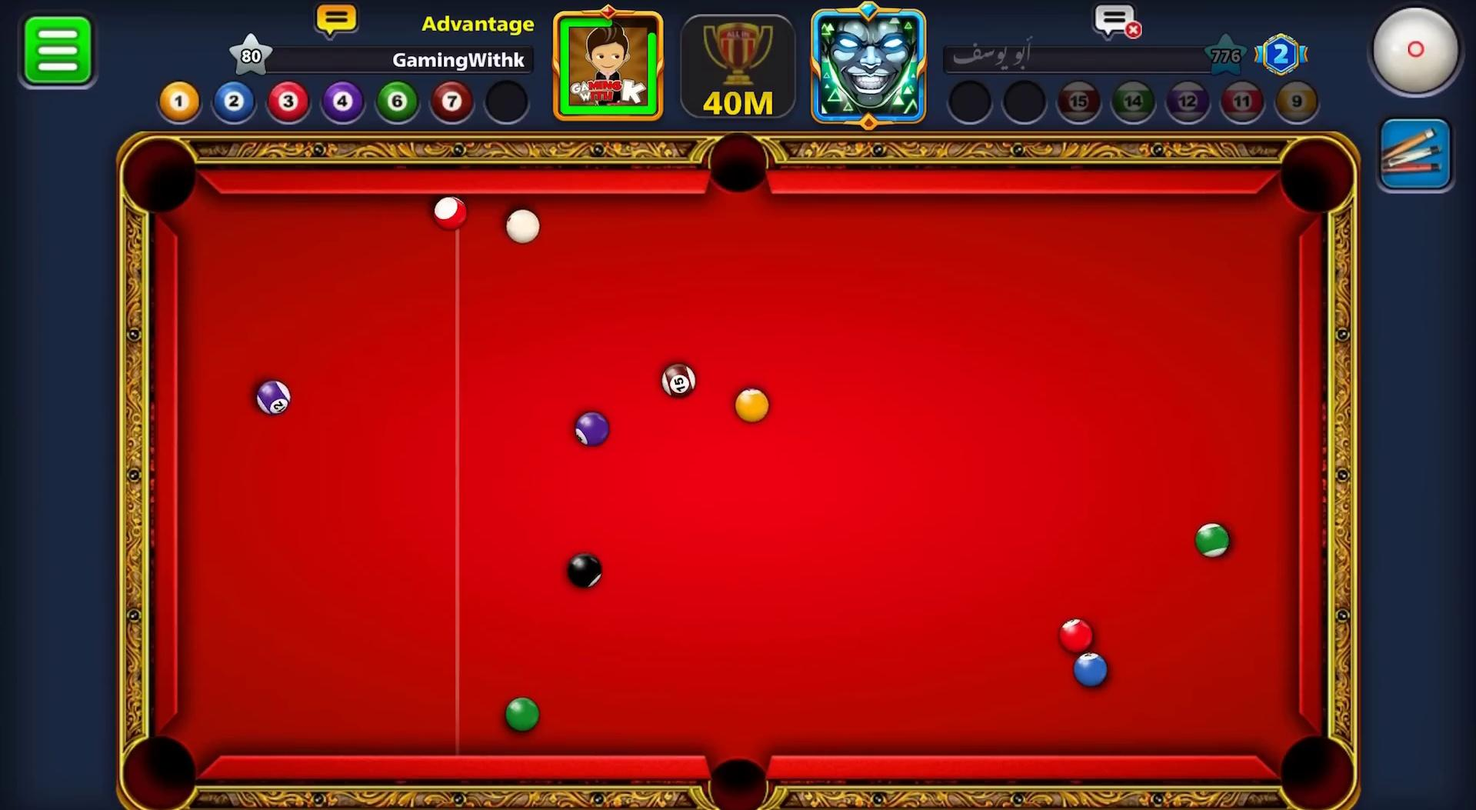Ball: (248, 370, 298, 422), (556, 548, 611, 594), (422, 190, 472, 236), (653, 357, 701, 404), (568, 406, 612, 451), (501, 692, 545, 737), (1191, 515, 1234, 561), (1050, 614, 1100, 651), (1070, 648, 1111, 689), (731, 382, 771, 424)
Hole: (101, 121, 219, 236), (1254, 719, 1373, 809), (1270, 128, 1360, 229), (685, 124, 789, 211), (689, 739, 785, 809), (122, 733, 199, 808)
Play_Area: (175, 192, 1294, 758)
Spin: (1364, 1, 1474, 107)
White: (498, 205, 546, 248)
